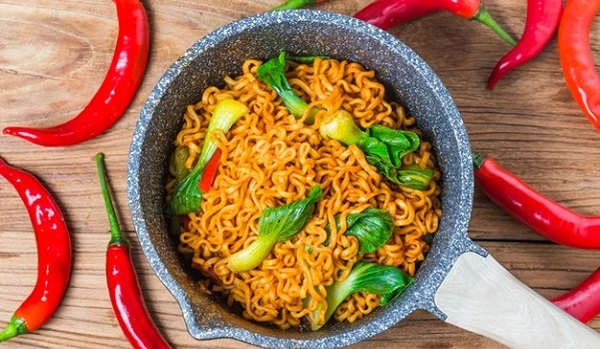Mie: (199, 26, 483, 310)
